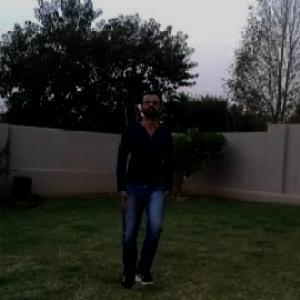follow: (116, 84, 172, 279)
